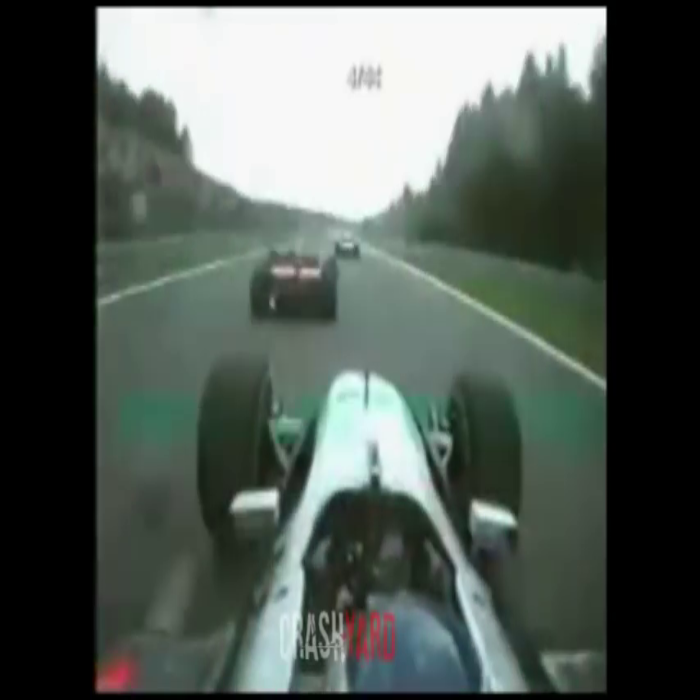f1_car: (157, 336, 587, 700), (245, 239, 345, 317)
